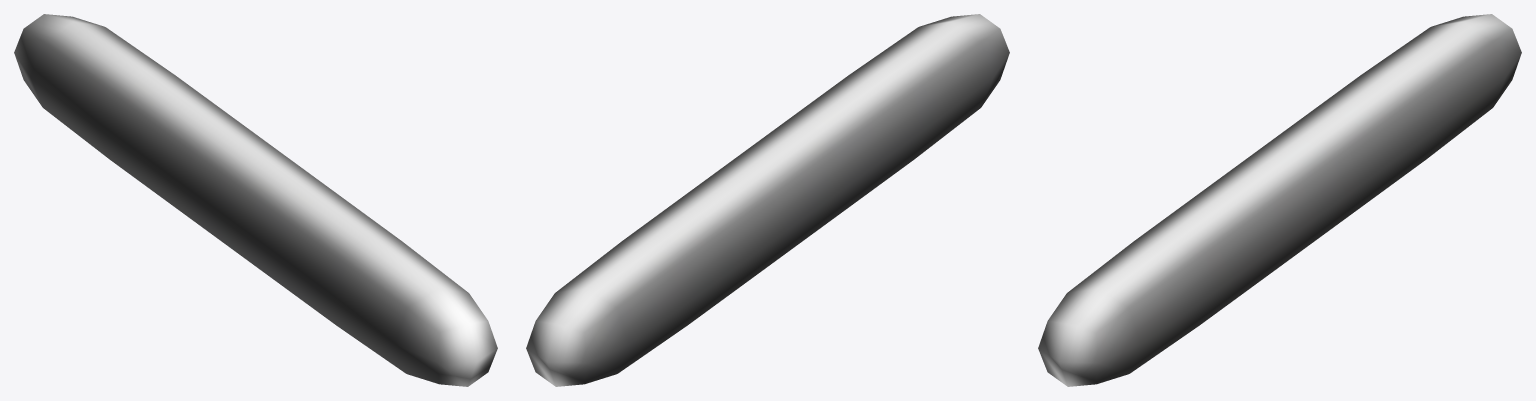
The model's file is Projectile.obj.
3 renders of one model, left to right at view 1: azimuth 30°, elevation 25°; view 2: azimuth 150°, elevation 25°; view 3: azimuth 330°, elevation 25°, orthographic.
Visible parts, largest first — view 1: Cube.003; view 2: Cube.003; view 3: Cube.003.
Boxes of the visible parts, x1,y1,x2,y2 form: Cube.003: [14, 14, 497, 386]; Cube.003: [526, 14, 1009, 386]; Cube.003: [1038, 14, 1521, 386].
Size of the model in its own units: 1.89 by 1.89 by 16.05.
Materials: 1 (1 with a texture image).
